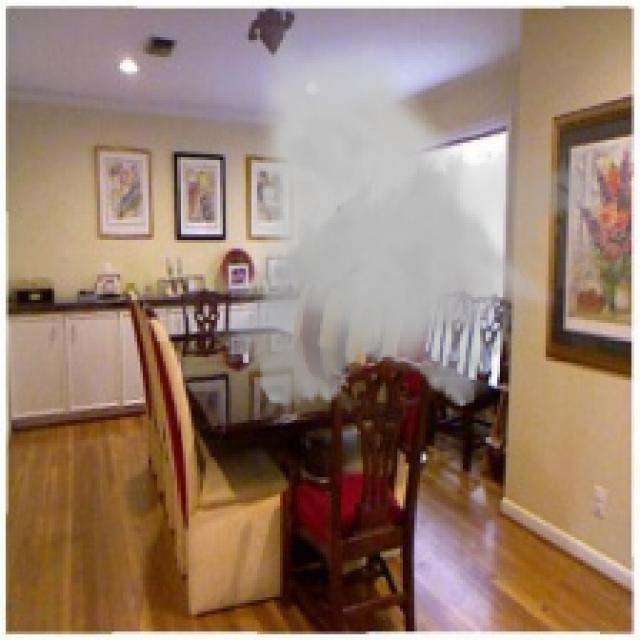Smoke: (212, 26, 594, 417)
